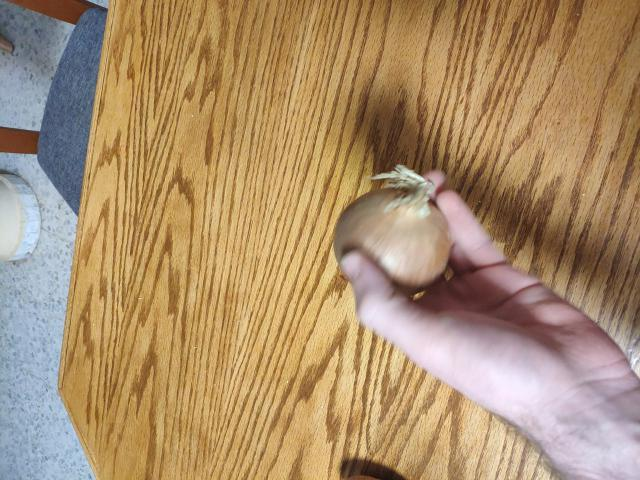onion: (332, 186, 444, 296)
